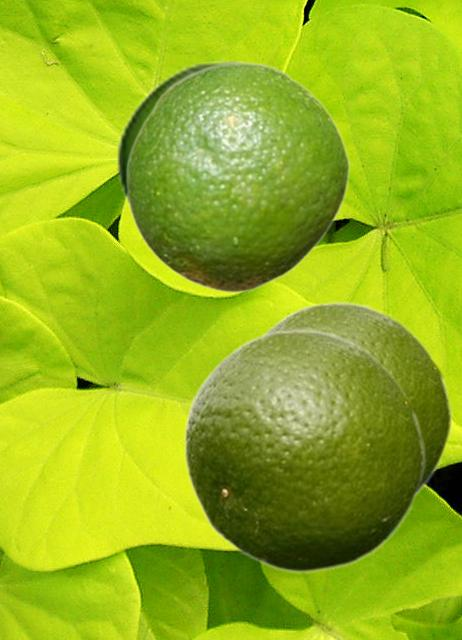calamansi: (183, 326, 425, 573), (125, 61, 349, 293), (115, 61, 353, 220), (261, 299, 452, 495)
